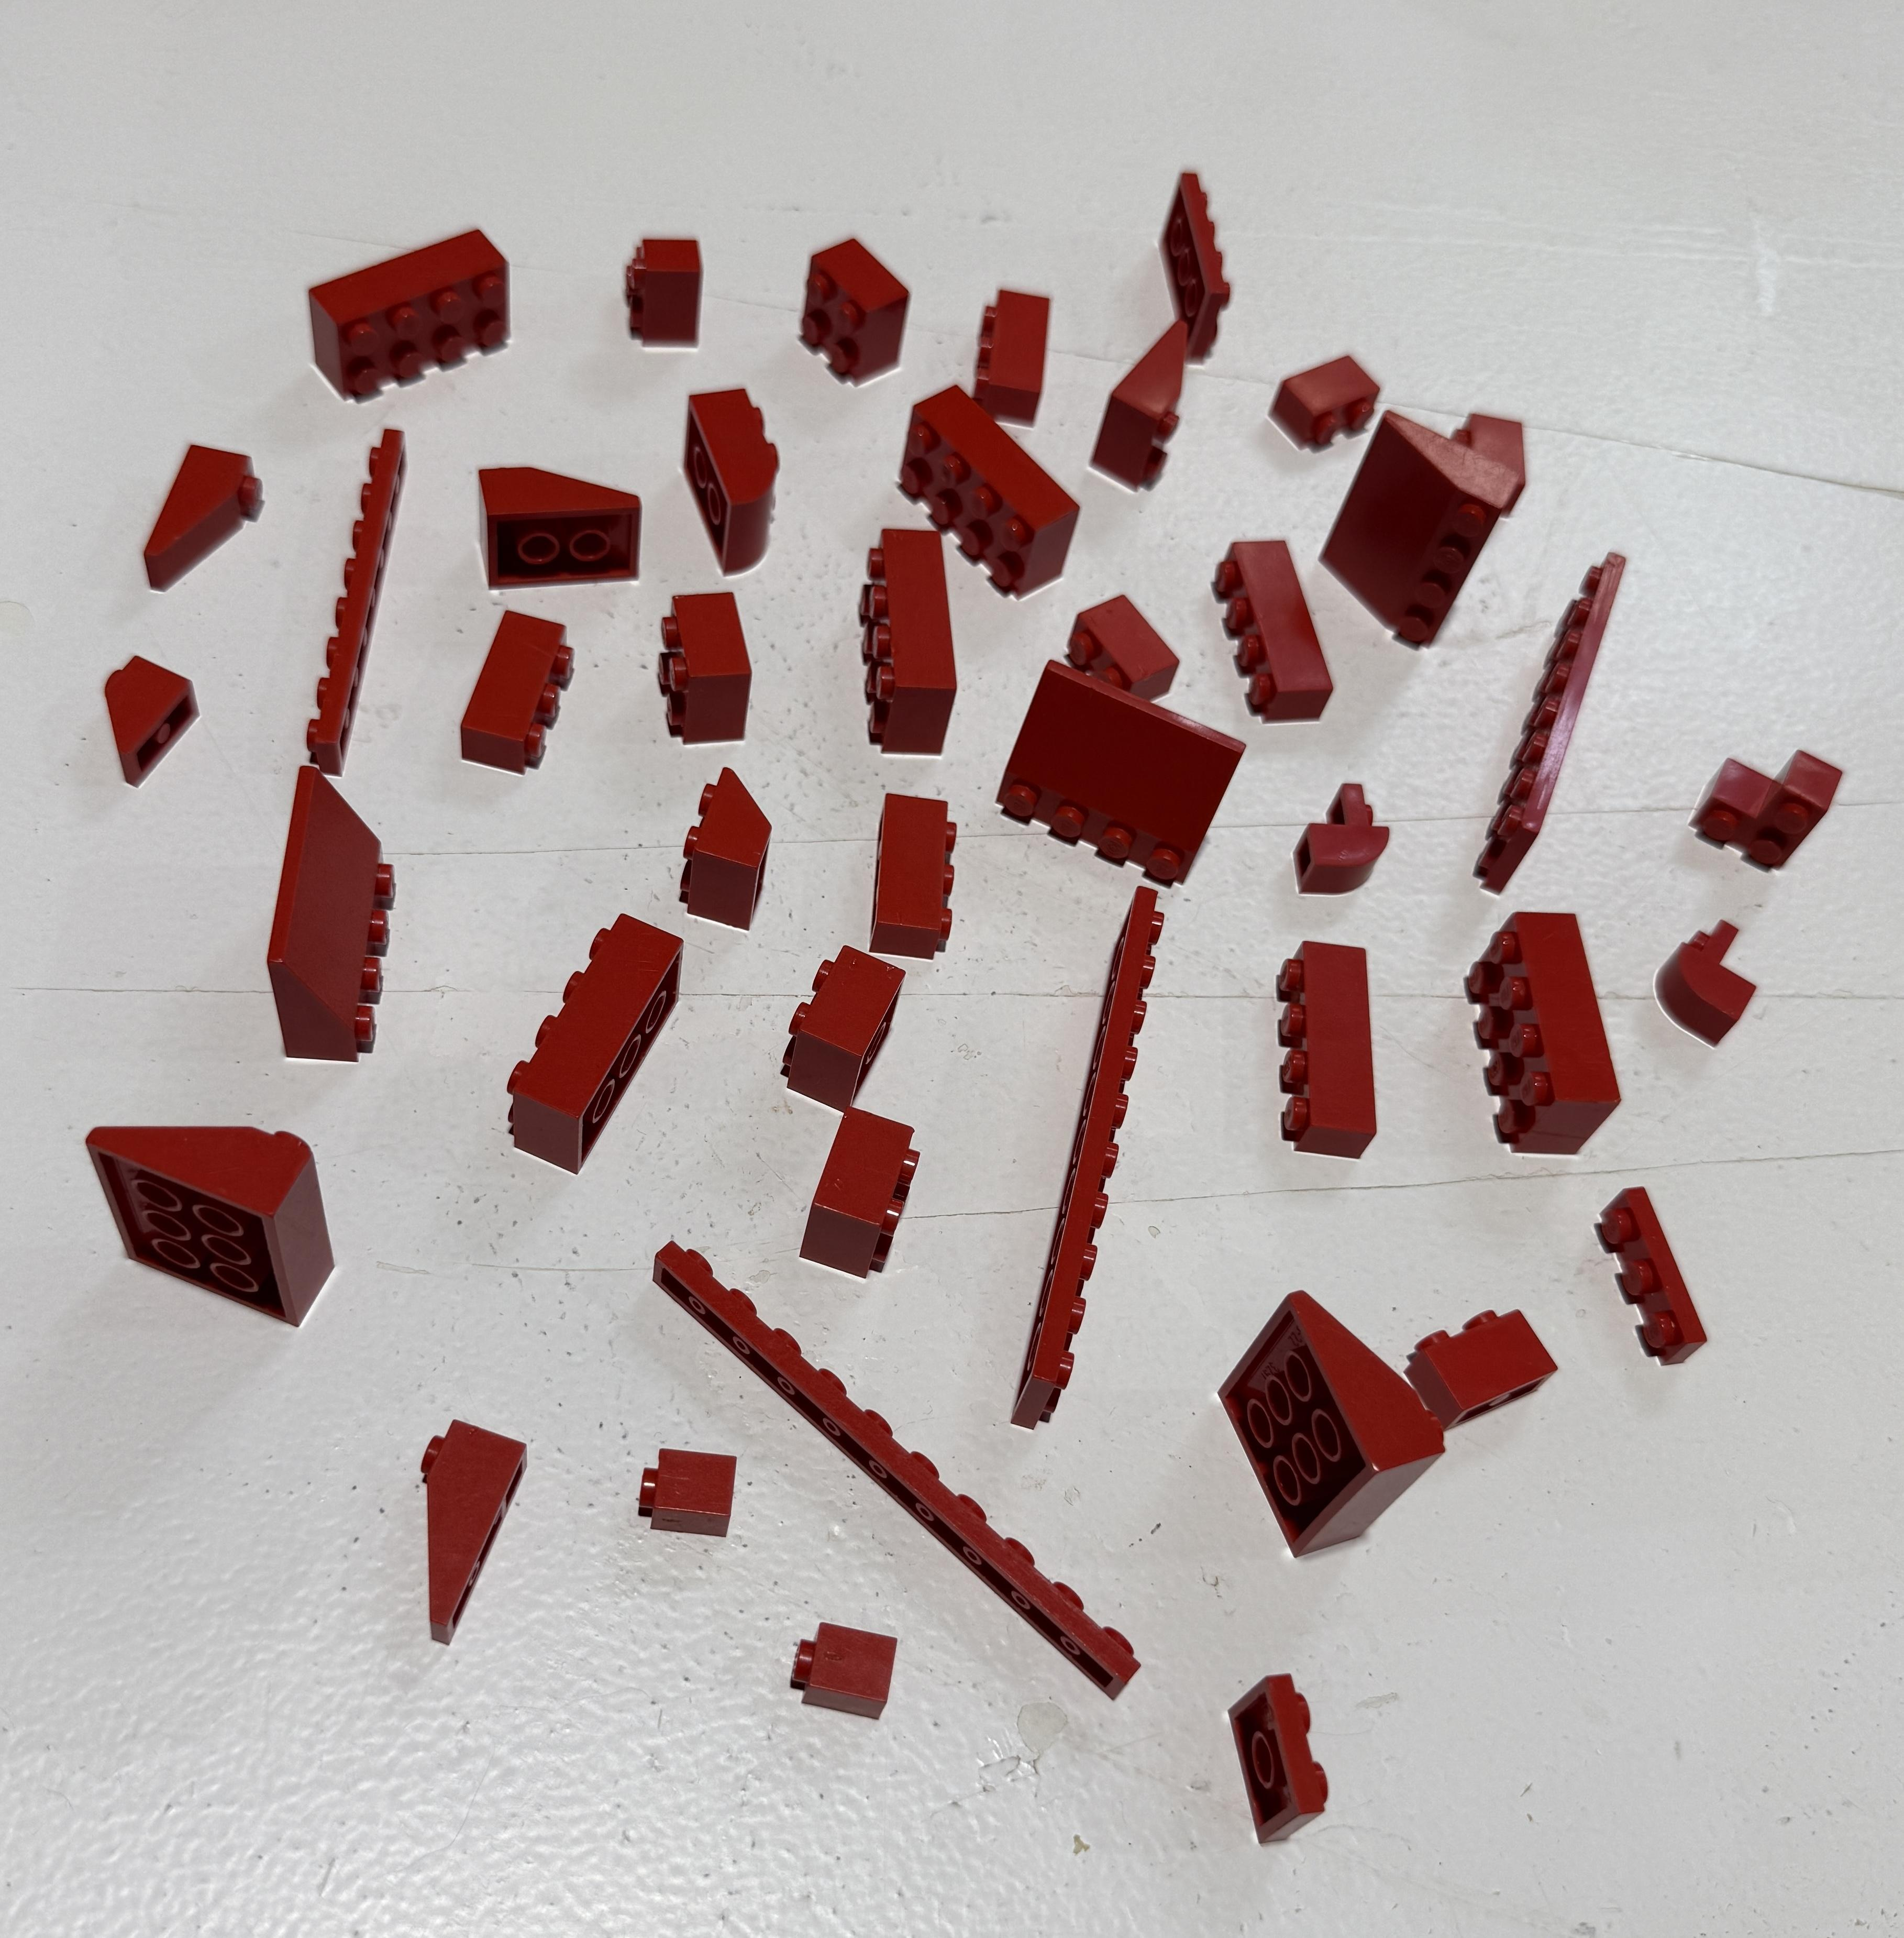Special_02: (382, 1389, 556, 1669), (105, 417, 293, 607)
brick_1x1: (764, 1598, 929, 1743), (628, 1430, 758, 1556)
brick_1x2: (1384, 1277, 1580, 1430), (1238, 321, 1414, 474), (1053, 572, 1207, 738), (955, 270, 1064, 440), (610, 218, 715, 370)
brick_1x3: (424, 595, 622, 790), (851, 762, 983, 987)
brick_1x4: (1252, 904, 1412, 1176), (1196, 506, 1357, 743)
brick_2x2: (764, 930, 929, 1127), (778, 1099, 942, 1282), (783, 227, 929, 405), (642, 572, 774, 766)
brick_2x4: (1452, 893, 1634, 1183), (886, 375, 1104, 612), (291, 208, 525, 412), (844, 509, 980, 769)
plate_2x2: (1215, 1614, 1343, 1866)
